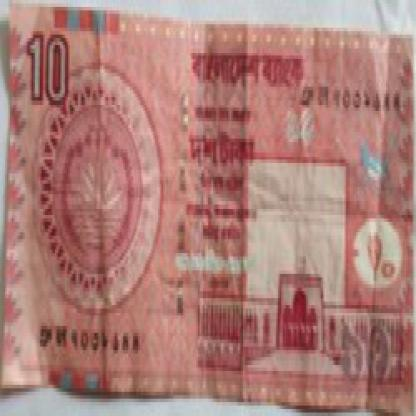Ten Taka: (338, 312, 394, 395), (25, 17, 70, 111)
